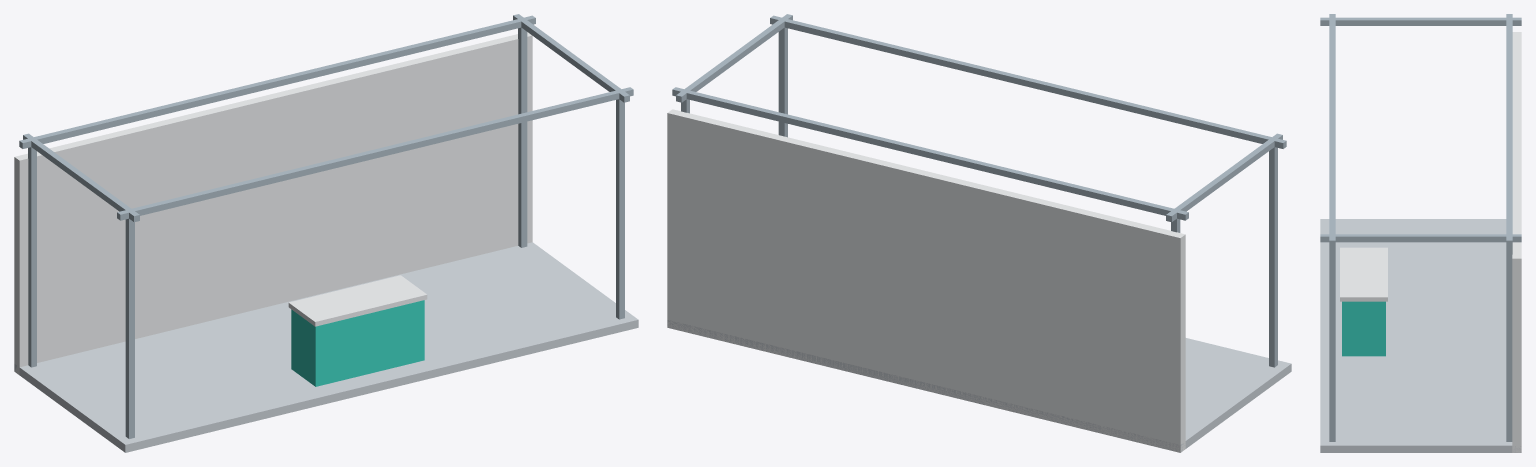
3 renders of one model, left to right at view 1: azimuth 30°, elevation 25°; view 2: azimuth 150°, elevation 25°; view 3: azimuth 270°, elevation 25°, orthographic. The views are drawn at different scales.
Visible parts, largest first — view 1: Exhibition Booth Concept; view 2: Exhibition Booth Concept; view 3: Exhibition Booth Concept.
Boxes of the visible parts, bbox=[...] form: Exhibition Booth Concept: bbox=[14, 14, 638, 452]; Exhibition Booth Concept: bbox=[667, 14, 1291, 452]; Exhibition Booth Concept: bbox=[1320, 14, 1521, 452].
Size of the model in its own units: 8 by 3.49 by 3.
